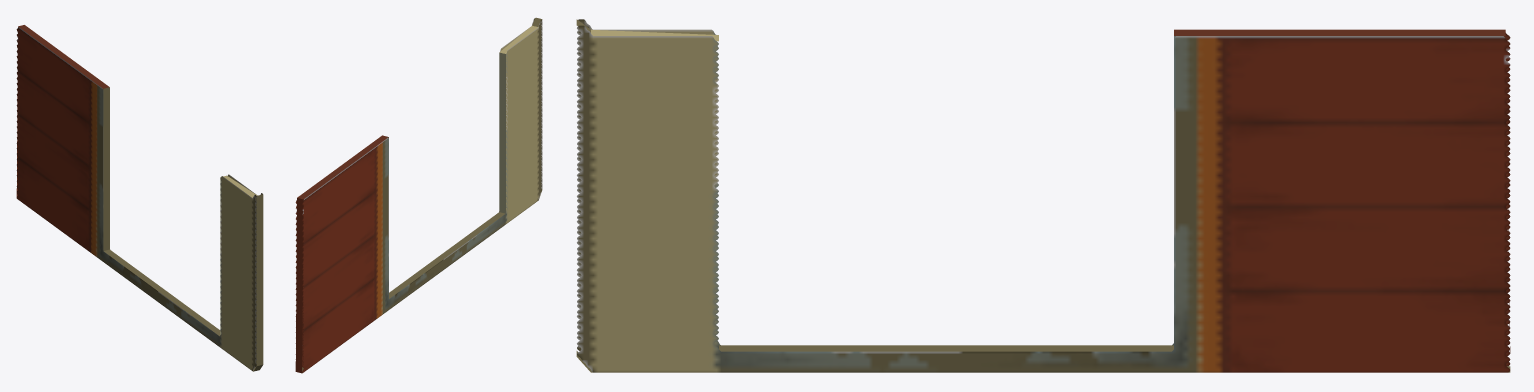
Rendered from pz_native_location_restaurant_spiffos_01_34_frame.obj.
The picture shows the model from 3 angles, left to right: view 1: azimuth 30°, elevation 25°; view 2: azimuth 150°, elevation 25°; view 3: azimuth 270°, elevation 25°; orthographic projection. The views are drawn at different scales.
Parts seen in each view (by area): view 1: pz_native_location_restaurant_spiffos_01_34_frame; view 2: pz_native_location_restaurant_spiffos_01_34_frame; view 3: pz_native_location_restaurant_spiffos_01_34_frame.
Boxes of the visible parts, left/top/right/bottom form: pz_native_location_restaurant_spiffos_01_34_frame: left=16, top=25, right=263, bottom=371; pz_native_location_restaurant_spiffos_01_34_frame: left=295, top=17, right=542, bottom=373; pz_native_location_restaurant_spiffos_01_34_frame: left=576, top=19, right=1510, bottom=372.
Bounding box in the file's own units: 0.04 × 1.06 × 2.55.
1 material, 1 textured.
